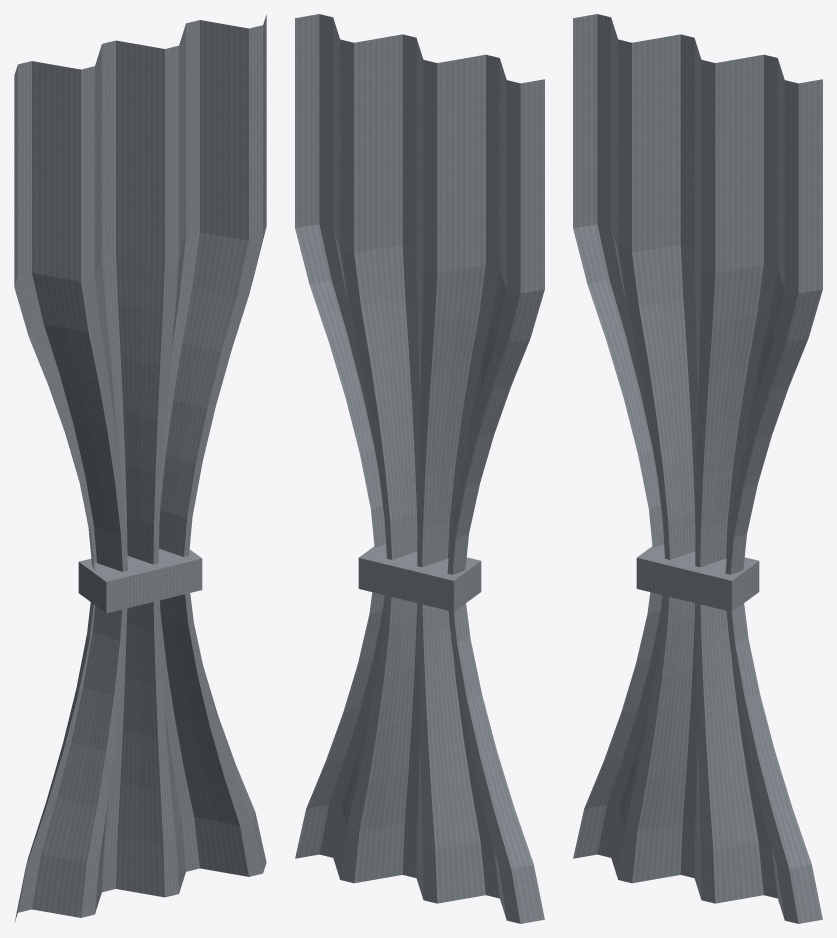
The model's file is SM_Curtain_Panel.fbx.
3 renders of one model, left to right at view 1: azimuth 30°, elevation 25°; view 2: azimuth 150°, elevation 25°; view 3: azimuth 330°, elevation 25°, orthographic.
Visible parts, largest first — view 1: SM_Curtain_Panel; view 2: SM_Curtain_Panel; view 3: SM_Curtain_Panel.
Part boxes in pixels (x1,y1,x2,y2): SM_Curtain_Panel: (14,14,266,922); SM_Curtain_Panel: (295,14,544,923); SM_Curtain_Panel: (573,14,822,923).
Bounding box in the file's own units: 0.42 × 1.35 × 0.08.
1 material, 1 textured.
